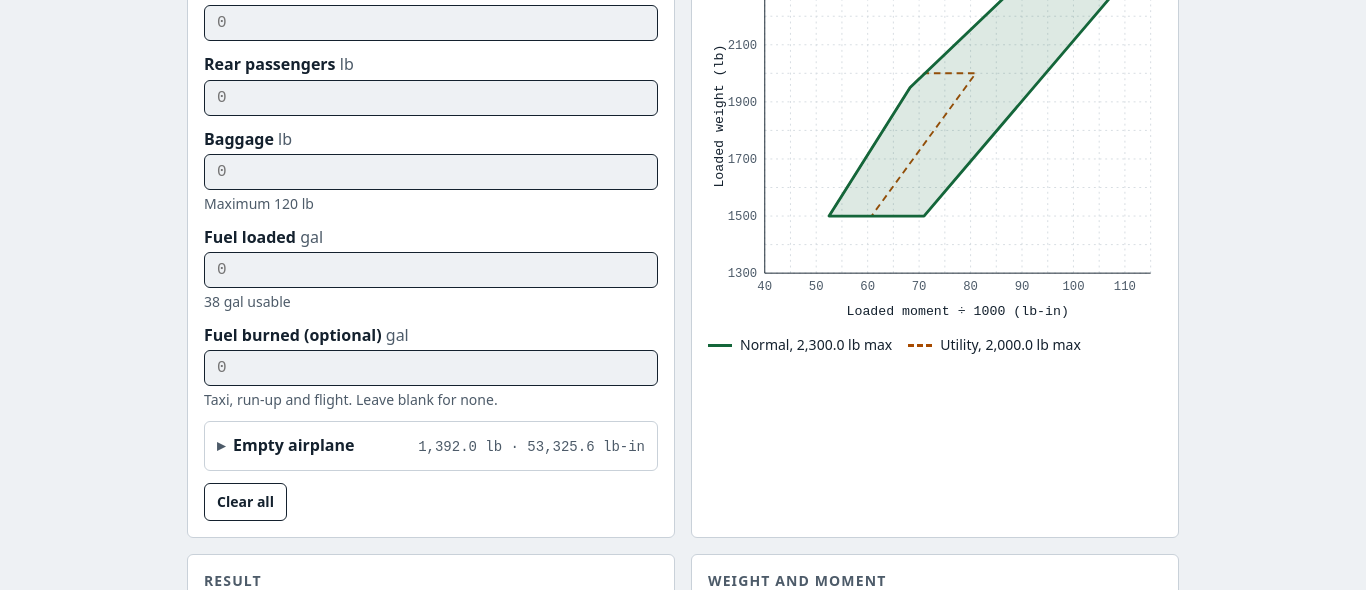
Test: App › opens the empty airplane to edit it, and the summary shows what changed
(page scrolled)
Click the text "Empty airplane": (286, 446) [217,434,354,457]
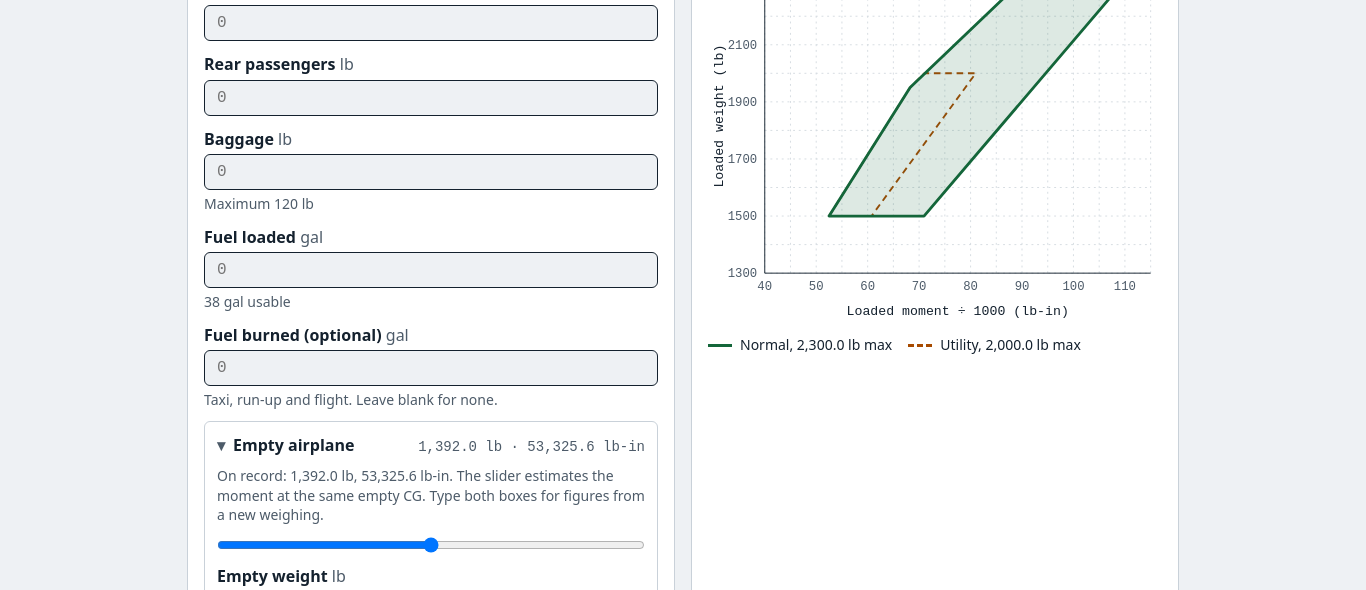
Set the slider named "empty weight" to "1402": (452, 545) [217,537,645,553]
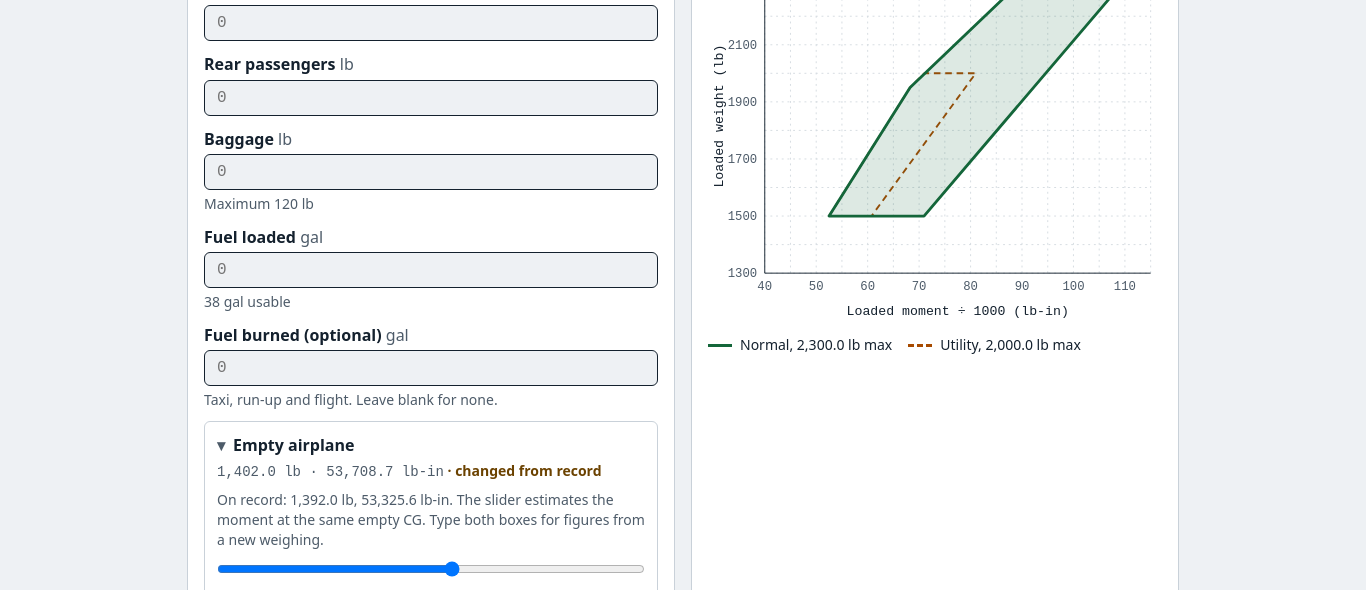
Now the heading "Empty airplane" shows "1,402.0 lb · 53,708.7 lb-in · changed from record", box [205,422,657,490]
